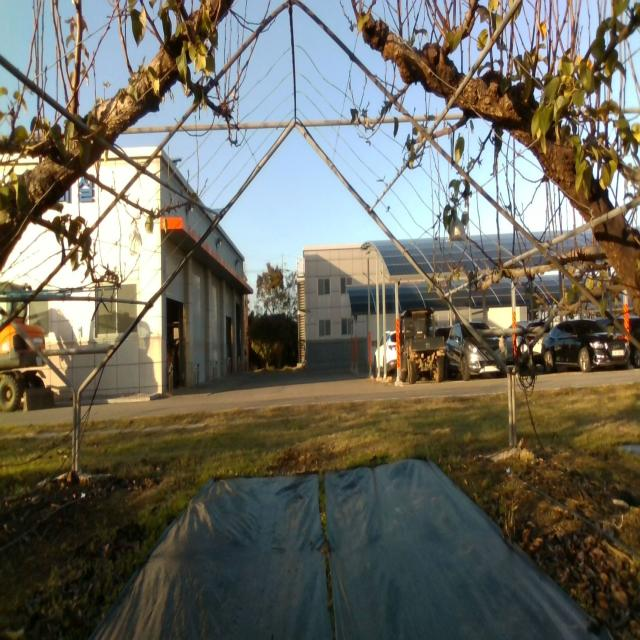pearbags: (446, 218, 467, 245), (129, 228, 142, 255)
